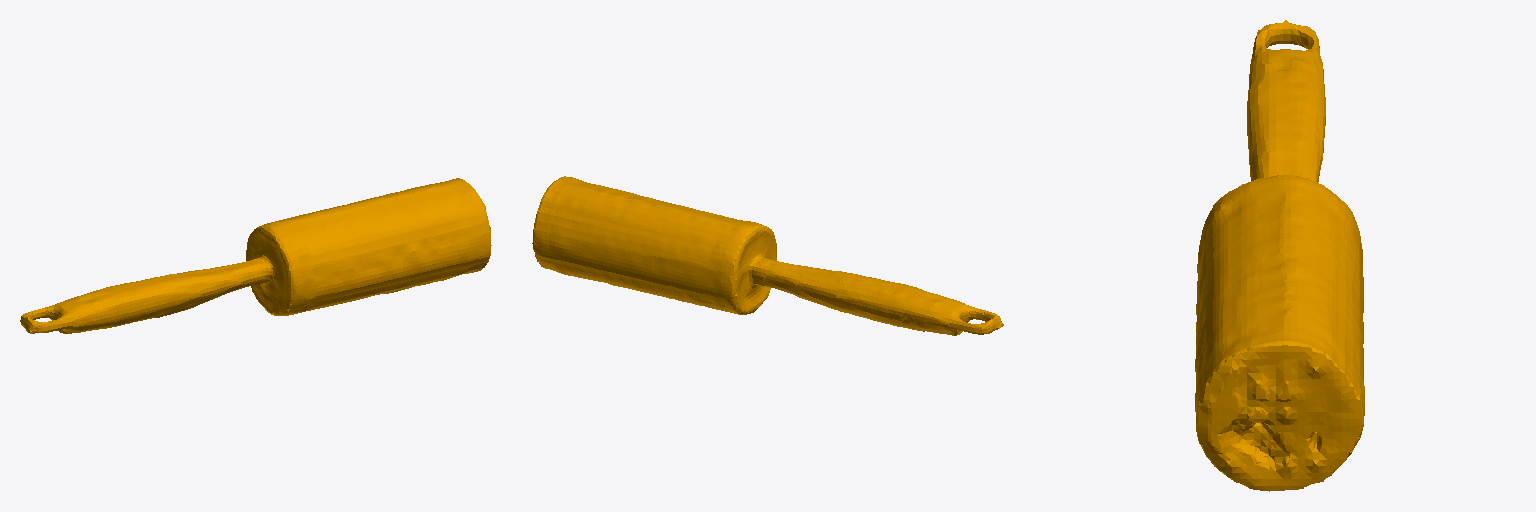
robot.urdf — model.urdf:
<?xml version="1.0" ?>
        <robot name="model.urdf">
        <link name="baseLink">
            <contact>
                <lateral_friction value="0.8"/>
                <rolling_friction value="0.001"/>
                <contact_cfm value="0.0"/>
                <contact_erp value="1.0"/>
            </contact>
            <inertial>
                <origin xyz="0.085 0.0 0.0" rpy="0 0 0"/>
                <mass value="0.073"/>
                <inertia ixx="0.001" ixy="0" ixz="0" iyy="0.001" iyz="0" izz="0.001"/>
            </inertial>
            <visual>
            <geometry>
                <mesh filename="roller.obj" scale="1 1 1"/>
            </geometry>
            <!-- The following material makes the object white in Isaac Gym, so we comment it out. -->
            <!-- <material name="white"> <color rgba="1. 1. 1. 1."/> </material> -->
            </visual>
            <collision>
            <geometry>
                <mesh filename="roller.obj" scale="1 1 1"/>
            </geometry>
            </collision>
        </link>
        </robot>

--- Facts derived from the render (not from the file) ---
The picture shows the robot from 3 angles, left to right: view 1: azimuth 30°, elevation 25°; view 2: azimuth 150°, elevation 25°; view 3: azimuth 270°, elevation 25°; orthographic projection.
Robot: model.urdf — 1 links, 0 joints (none); root link baseLink; default pose: all joints at 0.
Links seen in each view (by area): view 1: baseLink; view 2: baseLink; view 3: baseLink.
Boxes of the visible links, x1,y1,x2,y2 form: baseLink: [20, 178, 491, 333]; baseLink: [532, 176, 1003, 335]; baseLink: [1195, 20, 1364, 491].
Size in the robot's own frame: 0.22 by 0.0417 by 0.0416 metres.
Meshes: 1 distinct files referenced, 1 mesh visuals loaded (1 OBJ).
